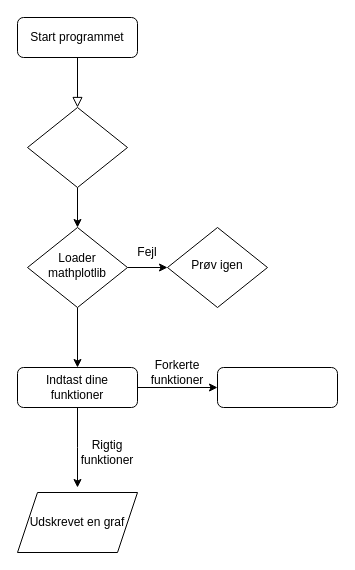
Image size: 355x570. Some labels were removed from this diagram. Here are the shapes that lost their labels. From the top down, the centre of each, then its label:
[77,147]: Åbner ny fane
[277,387]: Får brugeren til at omskrive funktionerne
